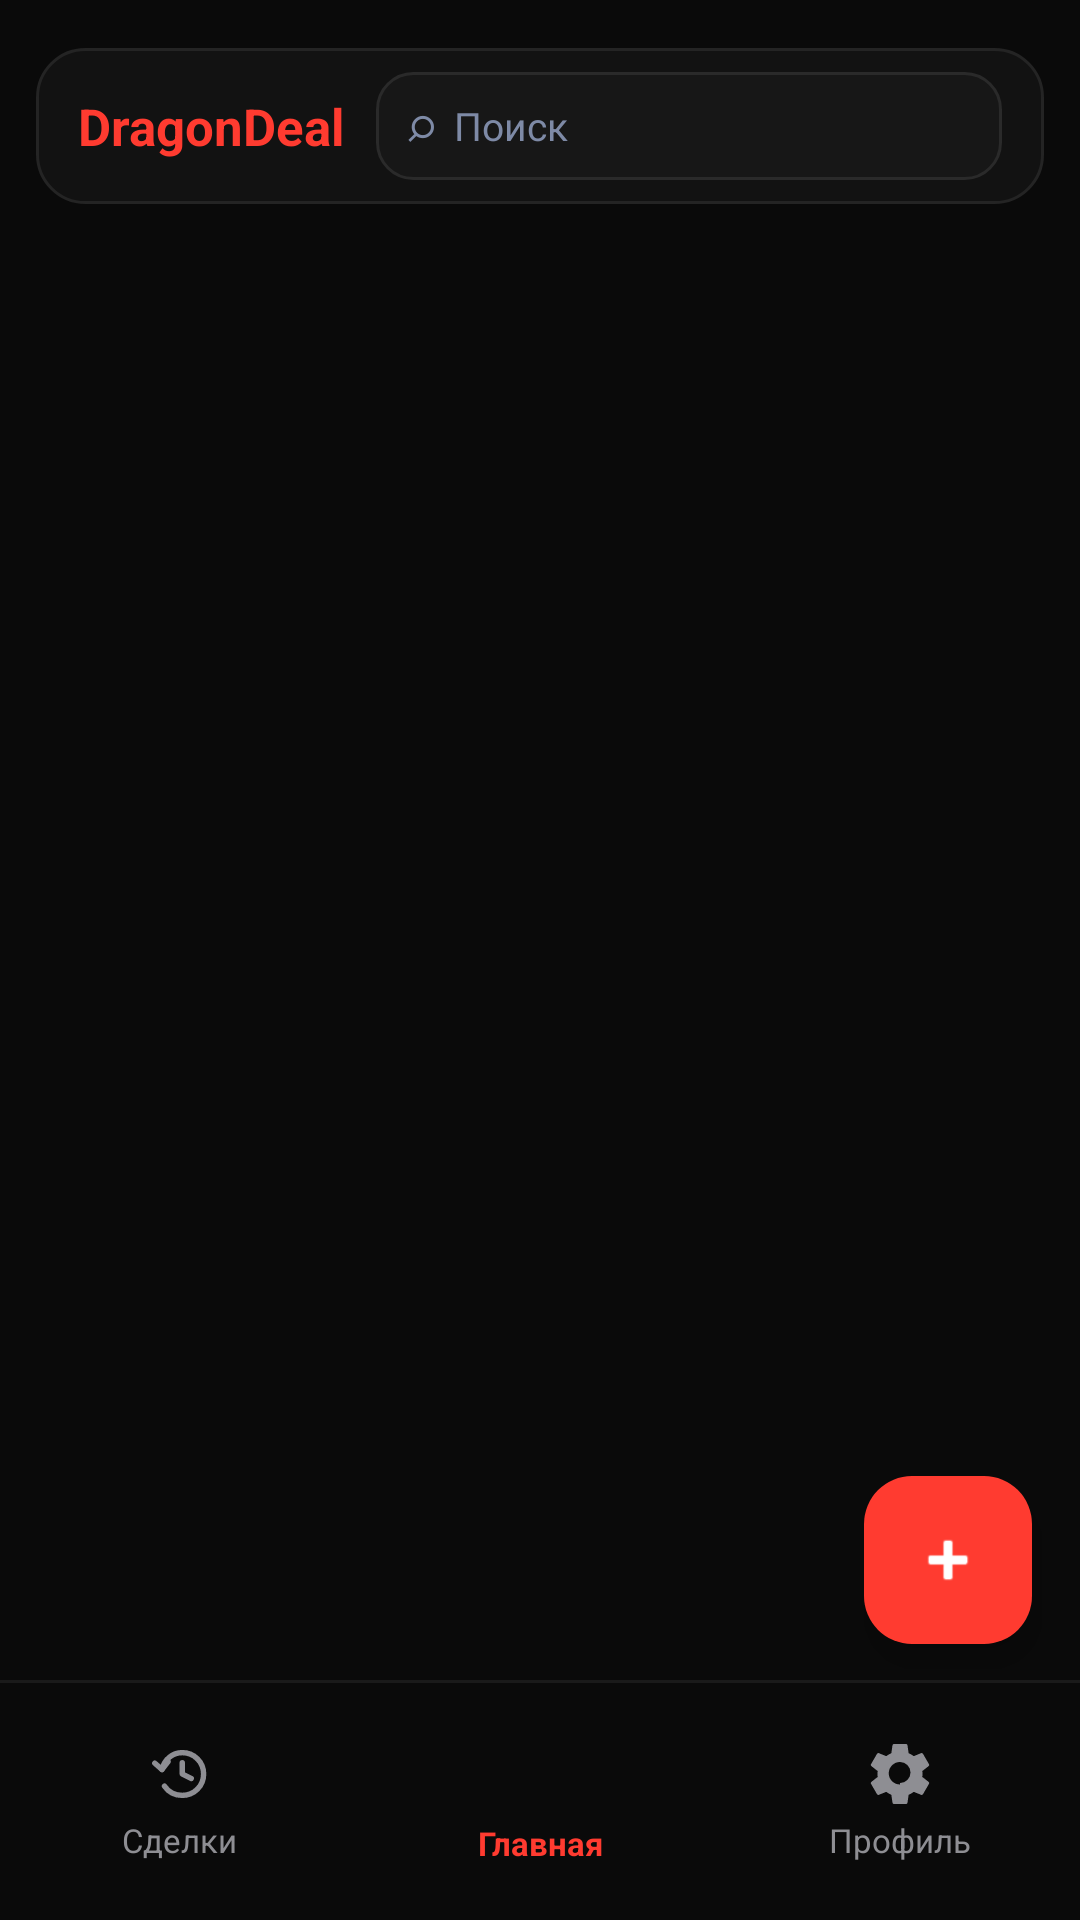

Point at icon controls on the screen. Image size 1080px×1920px, points as point (x, y).
add: point (948, 1560)
settings: point (900, 1774)
settings history: point (179, 1774)
